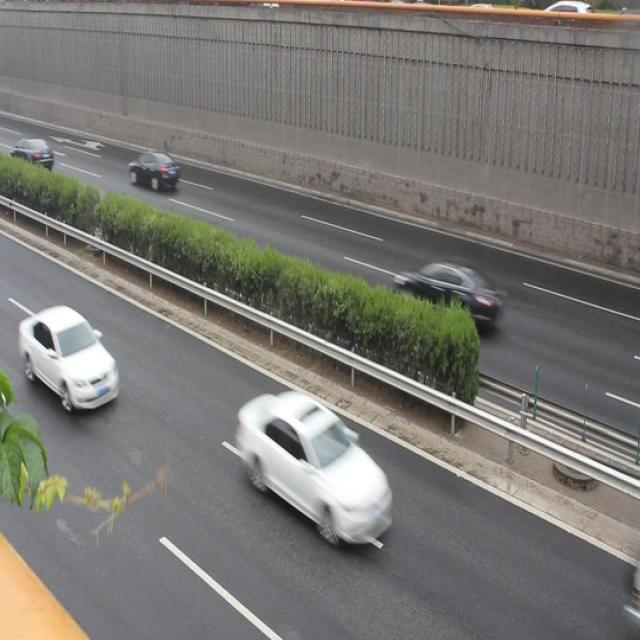car: (241, 393, 392, 546), (20, 304, 122, 409), (395, 258, 502, 334), (128, 150, 180, 194)
